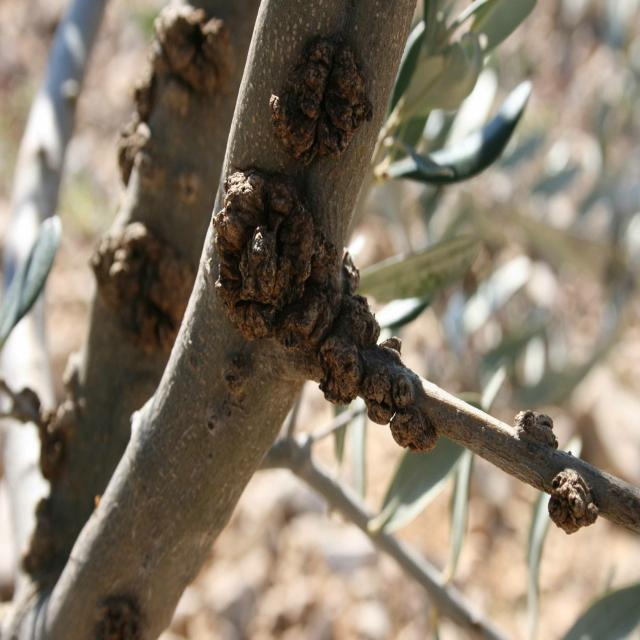Tuberculosis: (214, 169, 438, 452), (270, 35, 373, 166), (548, 469, 599, 534), (513, 409, 558, 449)
